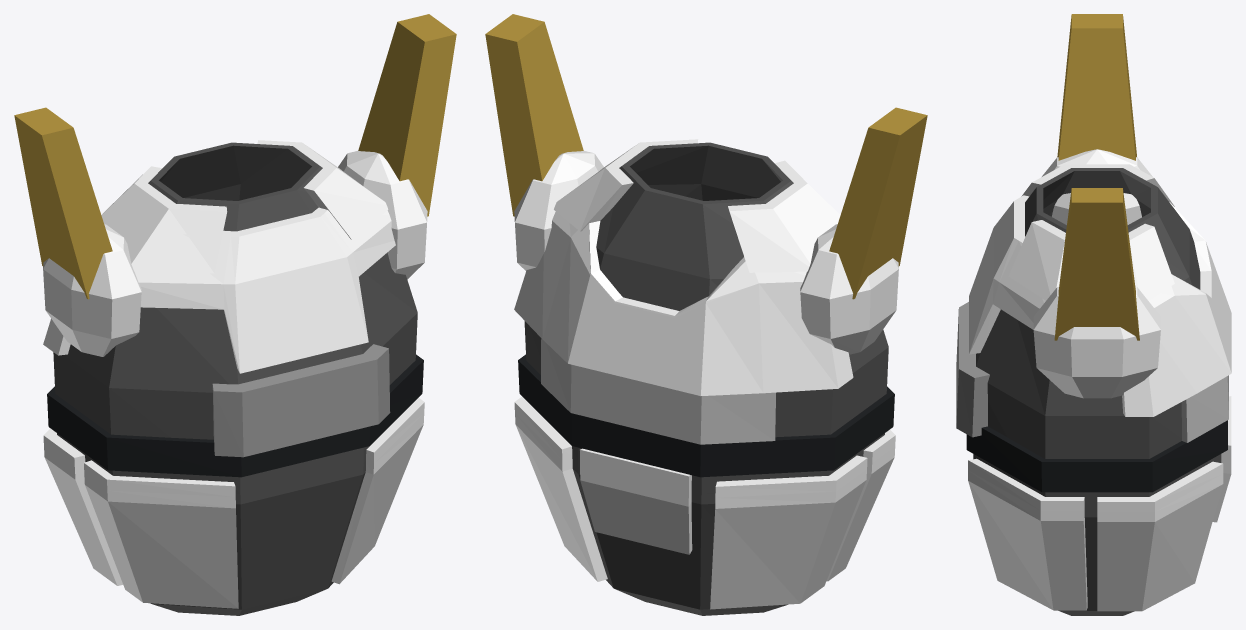
Rendered from person_fat_armor_recon_prestige.obj.
The picture shows the model from 3 angles, left to right: view 1: azimuth 30°, elevation 25°; view 2: azimuth 150°, elevation 25°; view 3: azimuth 270°, elevation 25°; orthographic projection. The views are drawn at different scales.
Parts seen in each view (by area): view 1: object 2, person_fat_armor_recon_prestige_addons; view 2: object 2, person_fat_armor_recon_prestige_addons; view 3: object 2, person_fat_armor_recon_prestige_addons.
Boxes of the visible parts, x1,y1,x2,y2 form: object 2: (43,140,427,615); person_fat_armor_recon_prestige_addons: (14,14,456,299); object 2: (514,139,898,615); person_fat_armor_recon_prestige_addons: (485,14,927,299); object 2: (956,149,1231,615); person_fat_armor_recon_prestige_addons: (1054,14,1139,340).
Size of the model in its own units: 0.7826 by 0.92 by 0.4831.
